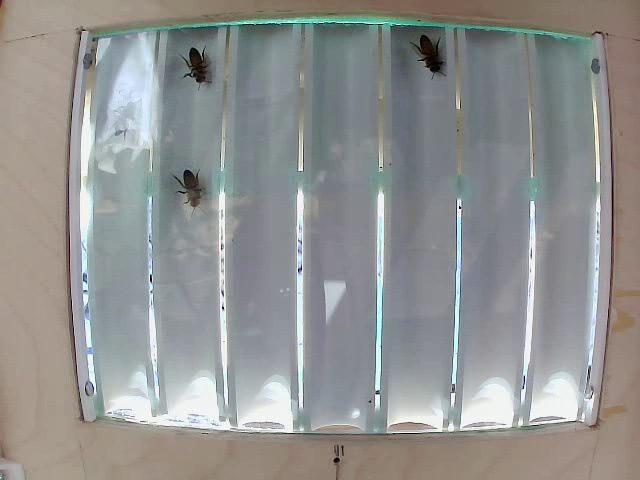bee: (178, 40, 221, 101), (398, 29, 454, 75), (167, 169, 212, 226)
